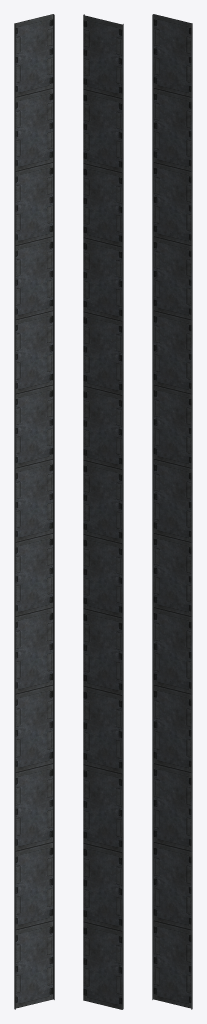
File: 02_06_elevator_shaft_nosign.dae
The picture shows the model from 3 angles, left to right: view 1: azimuth 30°, elevation 25°; view 2: azimuth 150°, elevation 25°; view 3: azimuth 330°, elevation 25°; orthographic projection.
Visible parts, largest first — view 1: background; view 2: background; view 3: background.
Part boxes in pixels (x1=…): background: x1=14, y1=14, x2=54, y2=1009; background: x1=83, y1=14, x2=123, y2=1009; background: x1=152, y1=14, x2=192, y2=1009.
Bounding box in the file's own units: 2 × 48.09 × 0.125.
